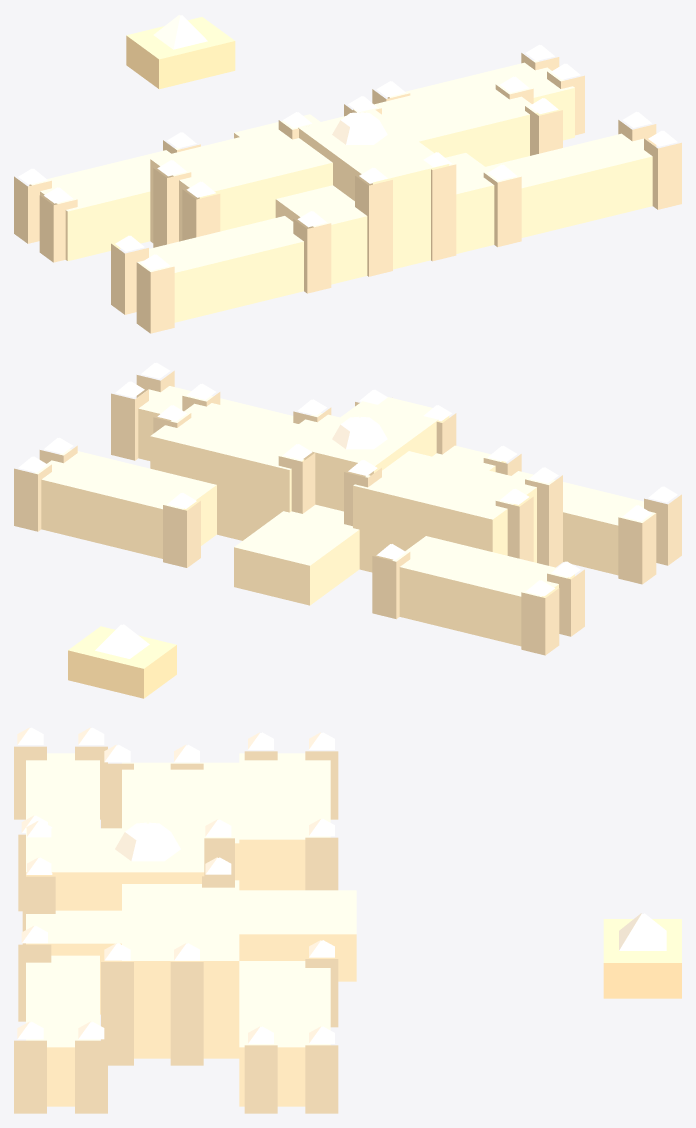
Rendered from pm_secretariat_far.glb.
The picture shows the model from 3 angles, top to bottom: view 1: azimuth 30°, elevation 25°; view 2: azimuth 150°, elevation 25°; view 3: azimuth 270°, elevation 25°; orthographic projection. The views are drawn at different scales.
Parts seen in each view (by area): view 1: m_wall_cream, m_tower_stone, m_dome_white, m_pavilion_stone; view 2: m_wall_cream, m_tower_stone, m_dome_white, m_pavilion_stone; view 3: m_wall_cream, m_tower_stone, m_dome_white, m_pavilion_stone.
Boxes of the visible parts, left/top/right/bottom form: m_wall_cream: left=29, top=60, right=657, bottom=322; m_tower_stone: left=14, top=53, right=681, bottom=333; m_dome_white: left=18, top=15, right=677, bottom=270; m_pavilion_stone: left=126, top=17, right=235, bottom=89; m_wall_cream: left=34, top=386, right=655, bottom=646; m_tower_stone: left=14, top=370, right=681, bottom=655; m_dome_white: left=18, top=362, right=677, bottom=658; m_pavilion_stone: left=68, top=626, right=176, bottom=698; m_wall_cream: left=26, top=753, right=356, bottom=1106; m_tower_stone: left=14, top=746, right=338, bottom=1113; m_dome_white: left=17, top=727, right=666, bottom=1043; m_pavilion_stone: left=603, top=919, right=681, bottom=998.
Bounding box in the file's own units: 168 × 34.6 × 154.
